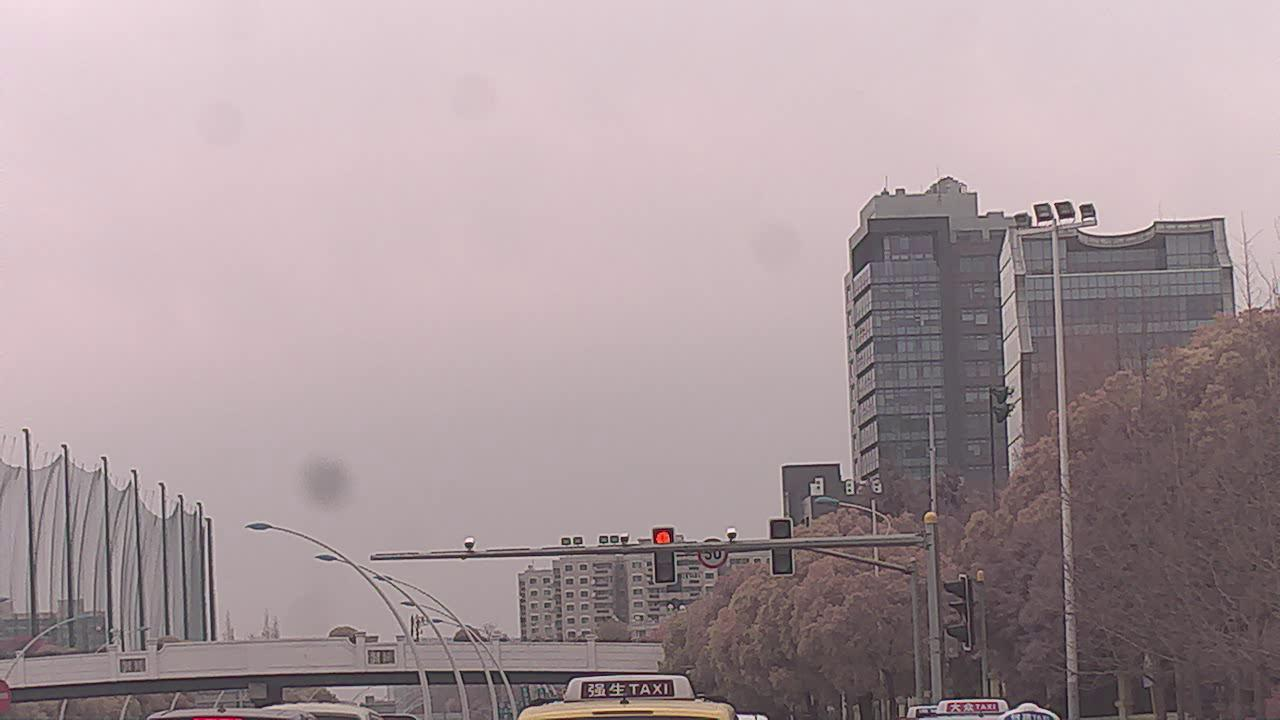traffic_light: (650, 526, 678, 584), (768, 519, 795, 576)
